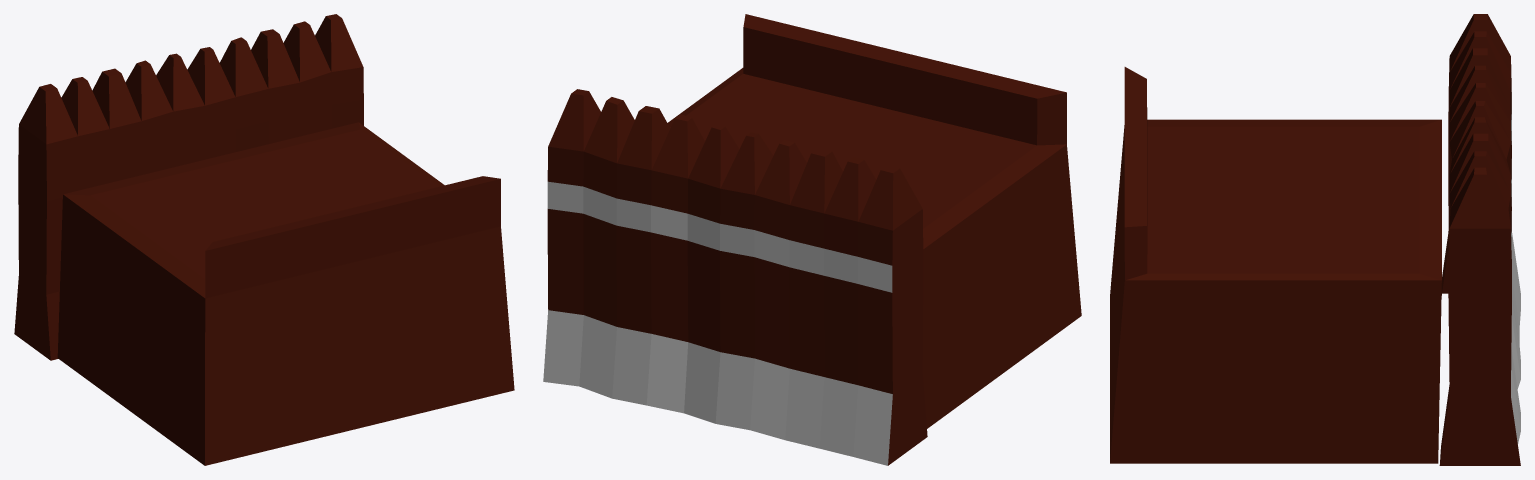
The model's file is wall_ramp.obj.
The picture shows the model from 3 angles, left to right: view 1: azimuth 30°, elevation 25°; view 2: azimuth 150°, elevation 25°; view 3: azimuth 270°, elevation 25°; orthographic projection. The views are drawn at different scales.
Parts seen in each view (by area): view 1: wall_ramp.001; view 2: wall_ramp.001; view 3: wall_ramp.001.
Part boxes in pixels (box(x1,y1,x2,y2)): wall_ramp.001: box(14, 14, 514, 465); wall_ramp.001: box(543, 14, 1081, 465); wall_ramp.001: box(1110, 14, 1520, 465).
Bounding box in the file's own units: 1.06 × 0.8257 × 1.07.
